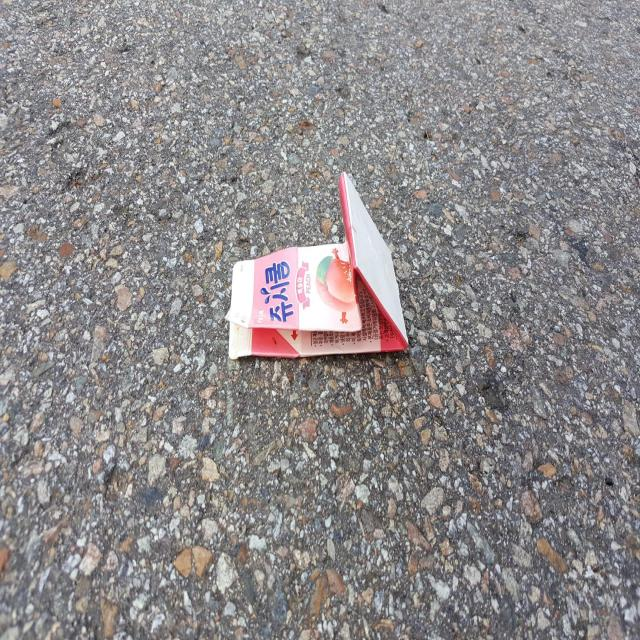paperpack: (226, 171, 408, 359)
